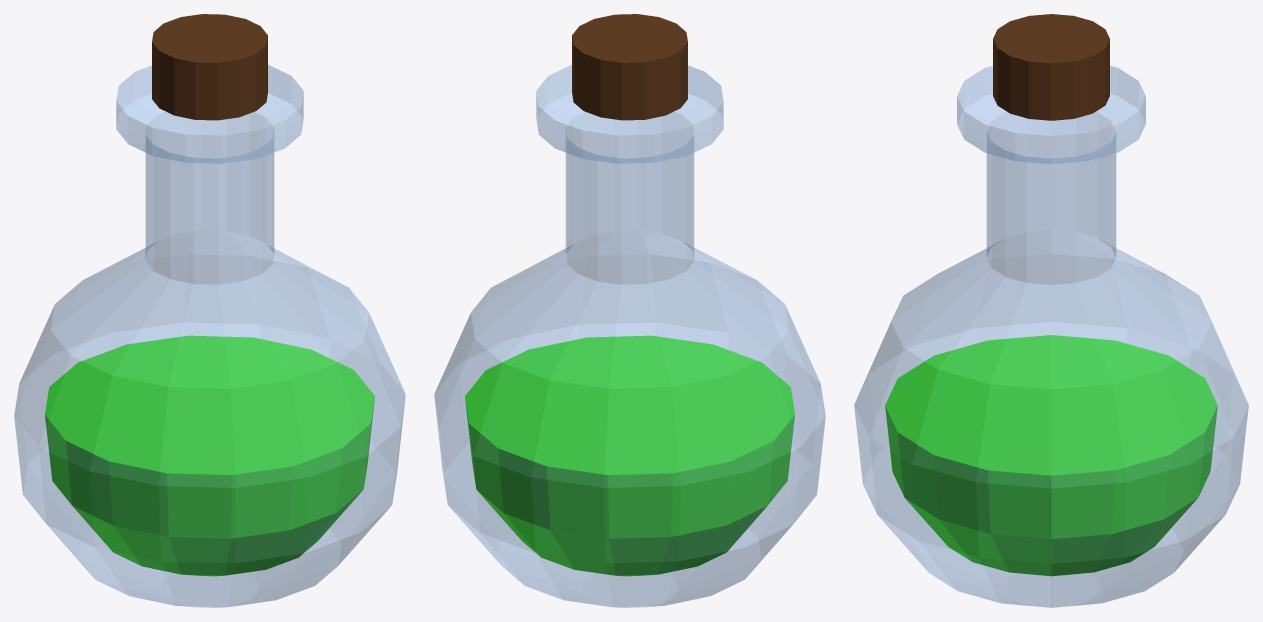
Rendered from Pot.fbx.
3 views of the same model, side by side, from view 1: azimuth 30°, elevation 25°; view 2: azimuth 150°, elevation 25°; view 3: azimuth 270°, elevation 25° (orthographic).
Visible parts, largest first — view 1: Cylinder.001; view 2: Cylinder.001; view 3: Cylinder.001.
Boxes of the visible parts, bbox=[...] form: Cylinder.001: bbox=[14, 14, 405, 607]; Cylinder.001: bbox=[434, 14, 825, 607]; Cylinder.001: bbox=[854, 14, 1248, 607].
Bounding box in the file's own units: 88.16 × 135 × 88.16.
